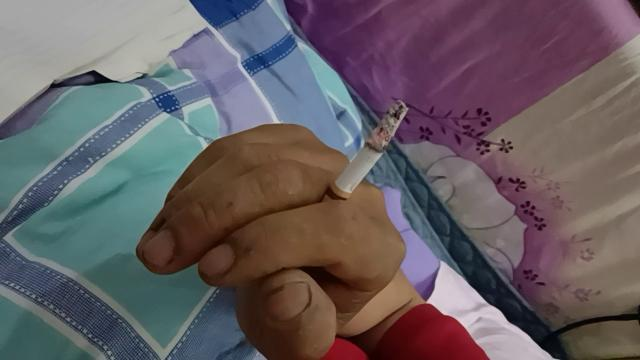Smoking: (312, 100, 410, 224)
